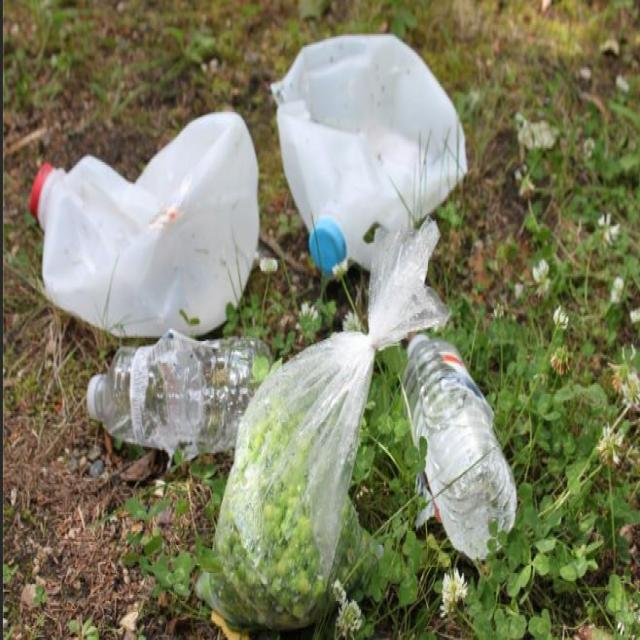dry: (205, 285, 388, 631), (28, 108, 260, 342), (266, 33, 469, 278), (399, 329, 517, 561), (85, 339, 274, 448)
